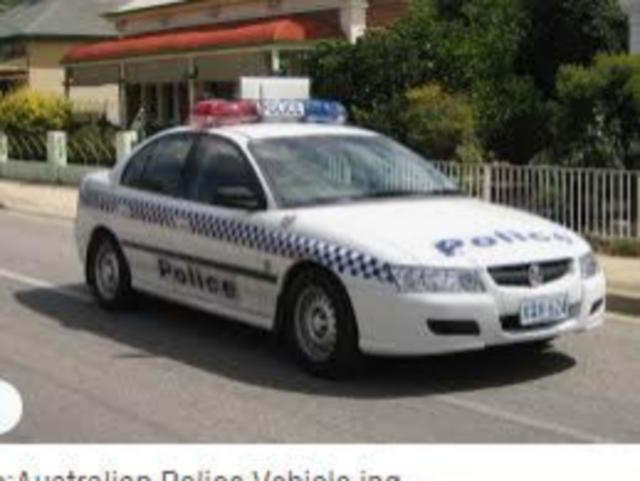police_car: (74, 94, 608, 376)
